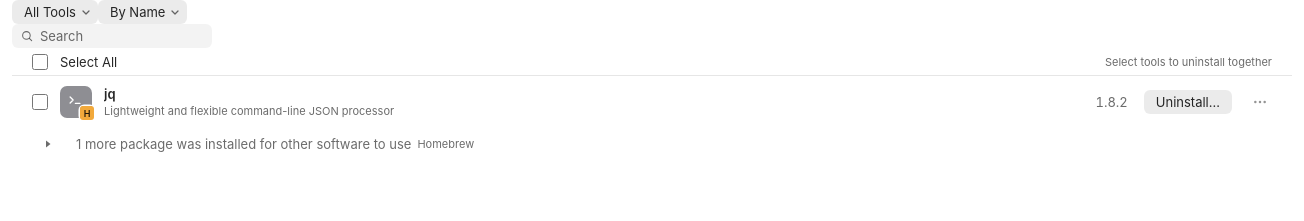
Scenario: InstalledPage › unfolds the component under its line, and folds it back
Expected: the text "jq" is shown, [104,86,116,102]
Click the button "1 more package was installed for other software to use" at (244, 144), box [12,128,1292,160]
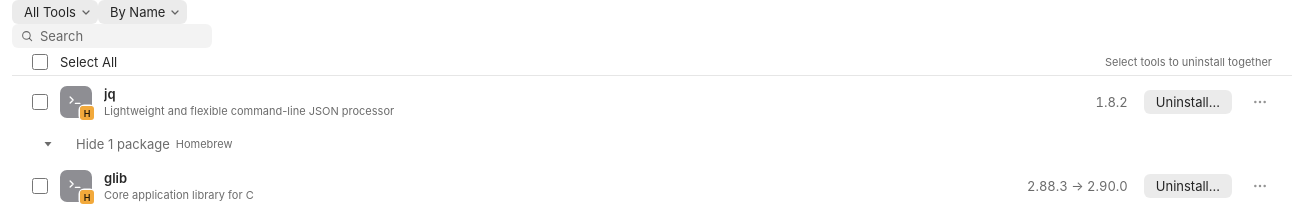
Now the text "glib" is shown, box [104,170,127,186]
Now the button "Hide 1 package Homebrew" is expanded
Click the button "Hide 1 package Homebrew" at (123, 144), box [12,128,1292,160]
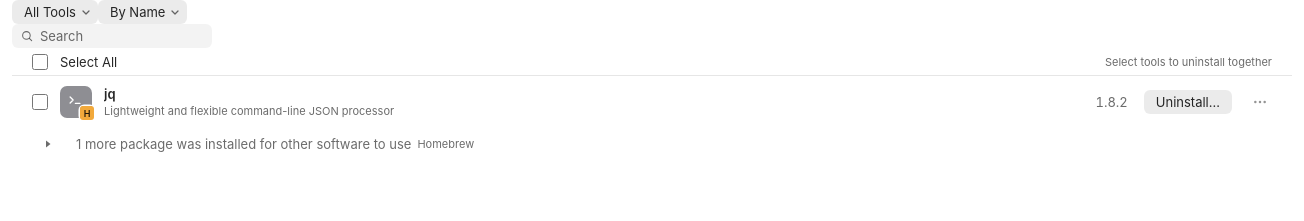
Now the text "glib" is gone
